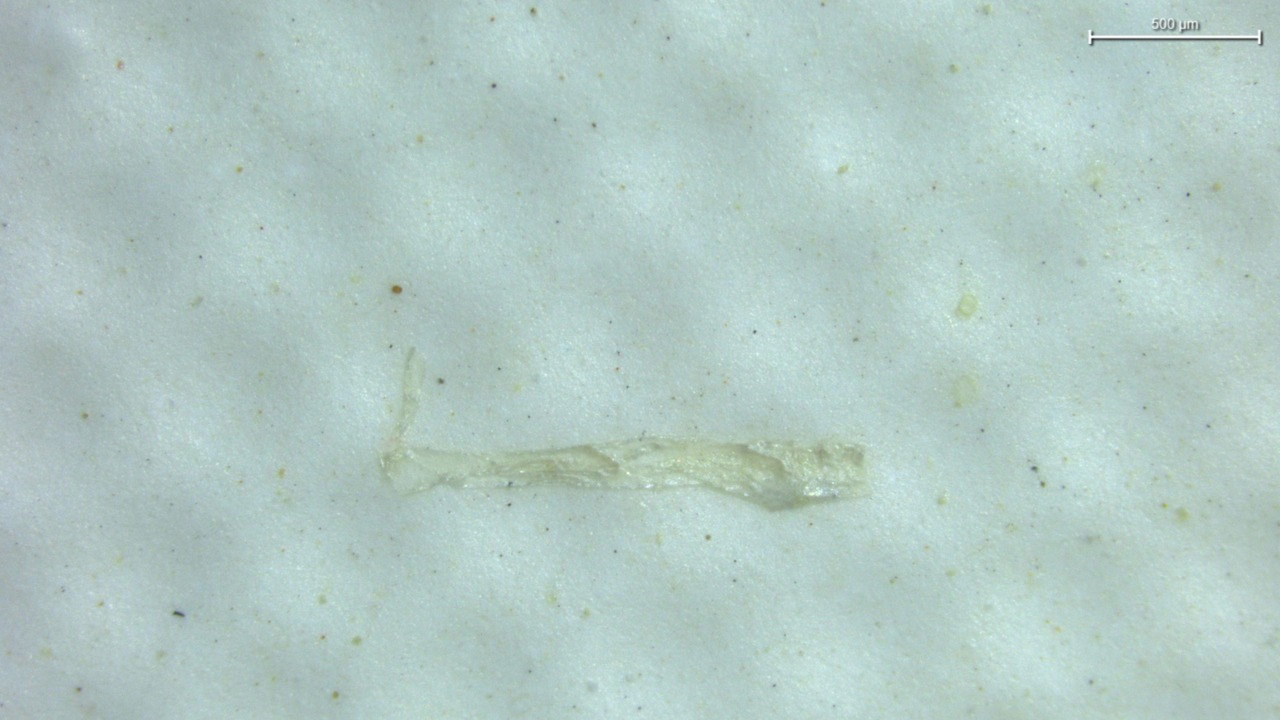microplastic_fragment: (381, 350, 868, 509)
